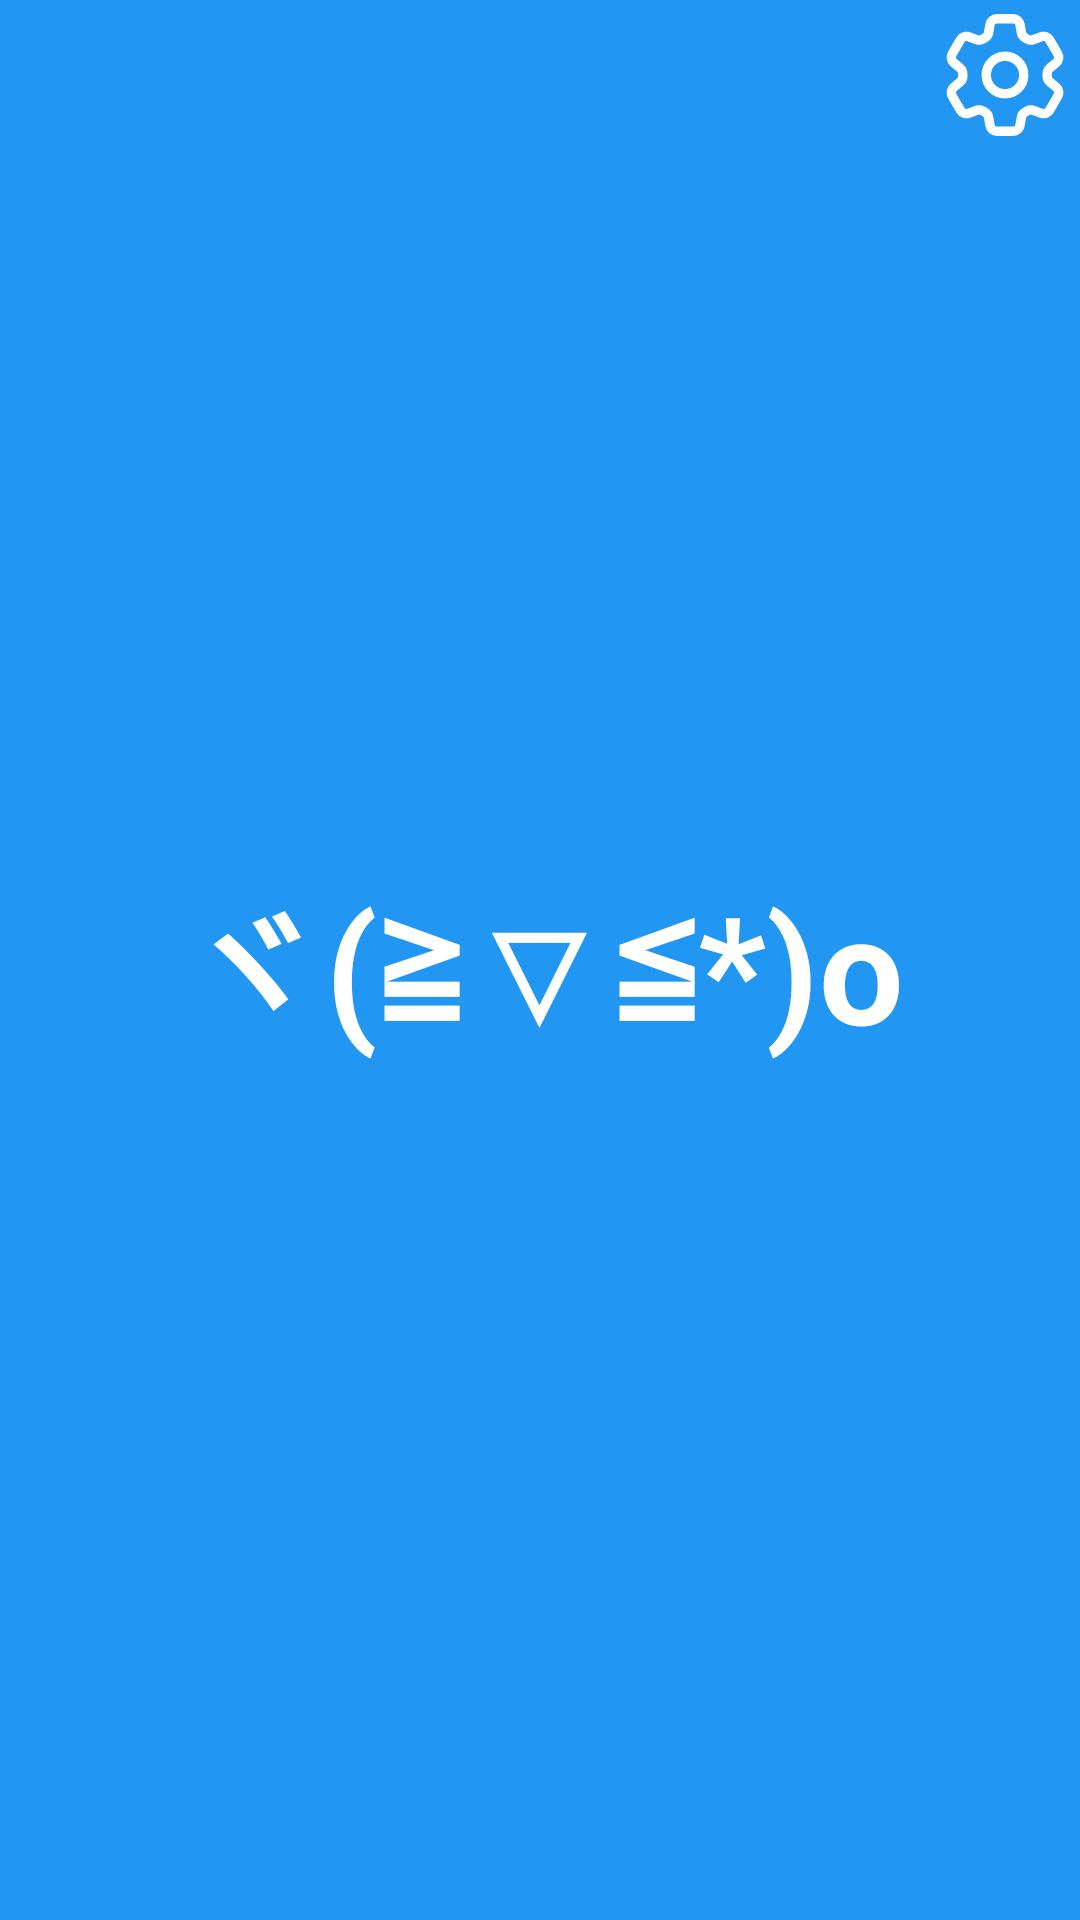

Icon bounding boxes for this 1080×1920 phone screenshot, format (x1, y1, x2, y2):
cog tooth: (946, 14, 1064, 136)
